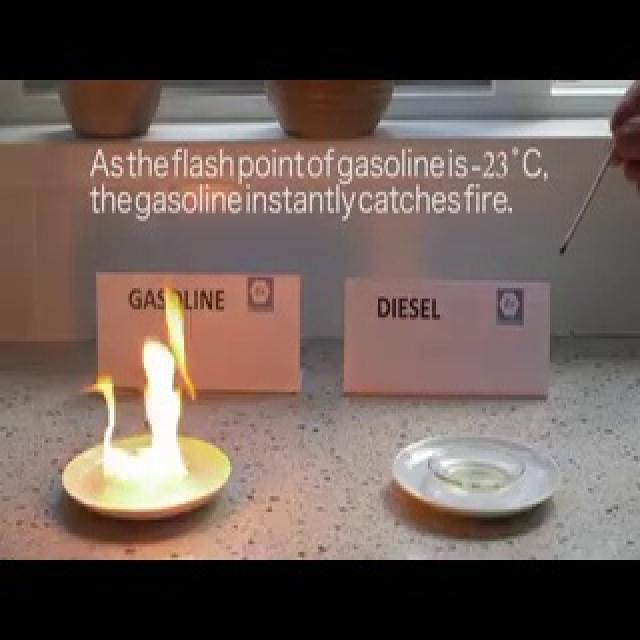fire: (91, 276, 198, 496)
